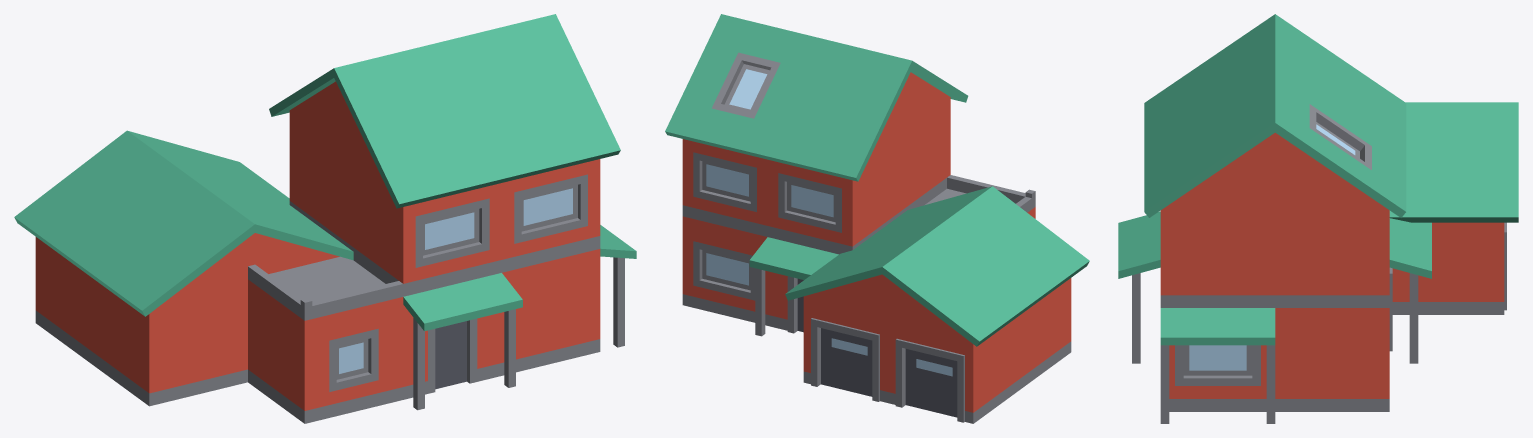
Rendered from house_type10.dae.
3 renders of one model, left to right at view 1: azimuth 30°, elevation 25°; view 2: azimuth 150°, elevation 25°; view 3: azimuth 270°, elevation 25°, orthographic. The views are drawn at different scales.
Parts seen in each view (by area): view 1: house_type10; view 2: house_type10; view 3: house_type10.
Part boxes in pixels (x1,y1,x2,y2): house_type10: (14, 14, 636, 423); house_type10: (665, 14, 1089, 423); house_type10: (1118, 14, 1518, 423).
Bounding box in the file's own units: 1.81 × 1.14 × 1.4.
